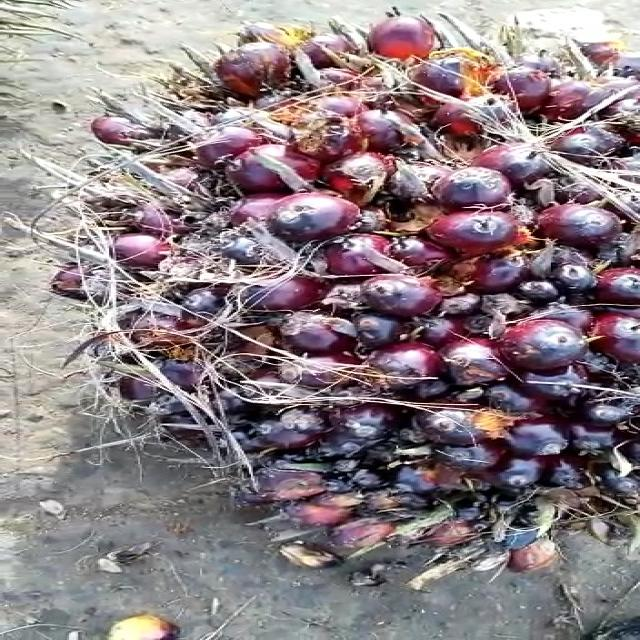palm oil: (48, 11, 640, 594)
